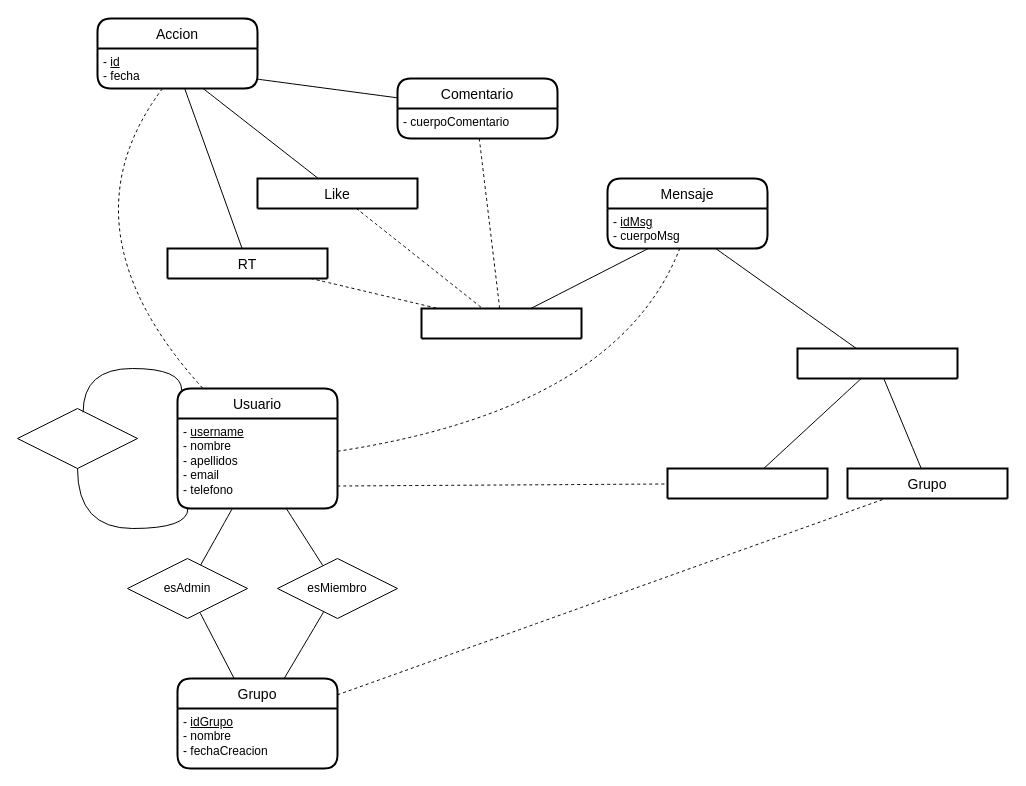
Some shapes in this 1026 by 786 pixel diagram are drawn without their labels. Each missing label, with the centre of its shape:
"DM" belongs at [747,483].
"Privado" belongs at [877,363].
"sigue" belongs at [77,438].
"Tweet" belongs at [501,323].
